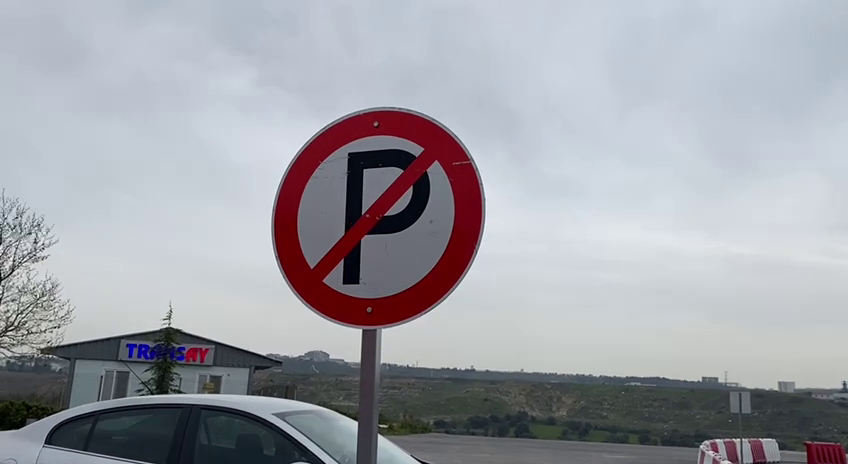noparking: (265, 102, 490, 334)
